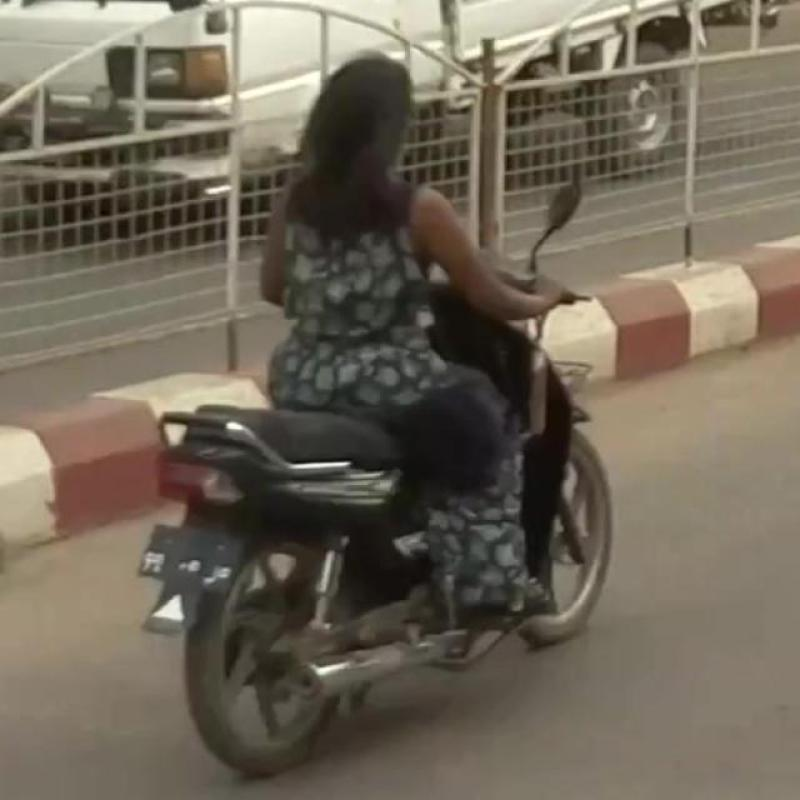nohelmet: (284, 22, 446, 233)
